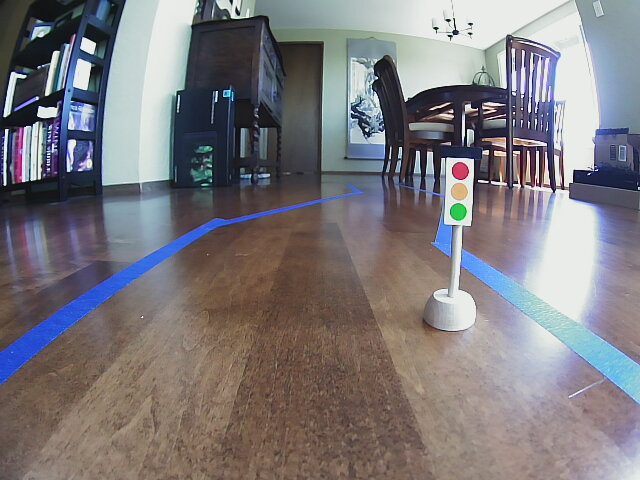TrafficLight: (443, 154, 475, 229)
